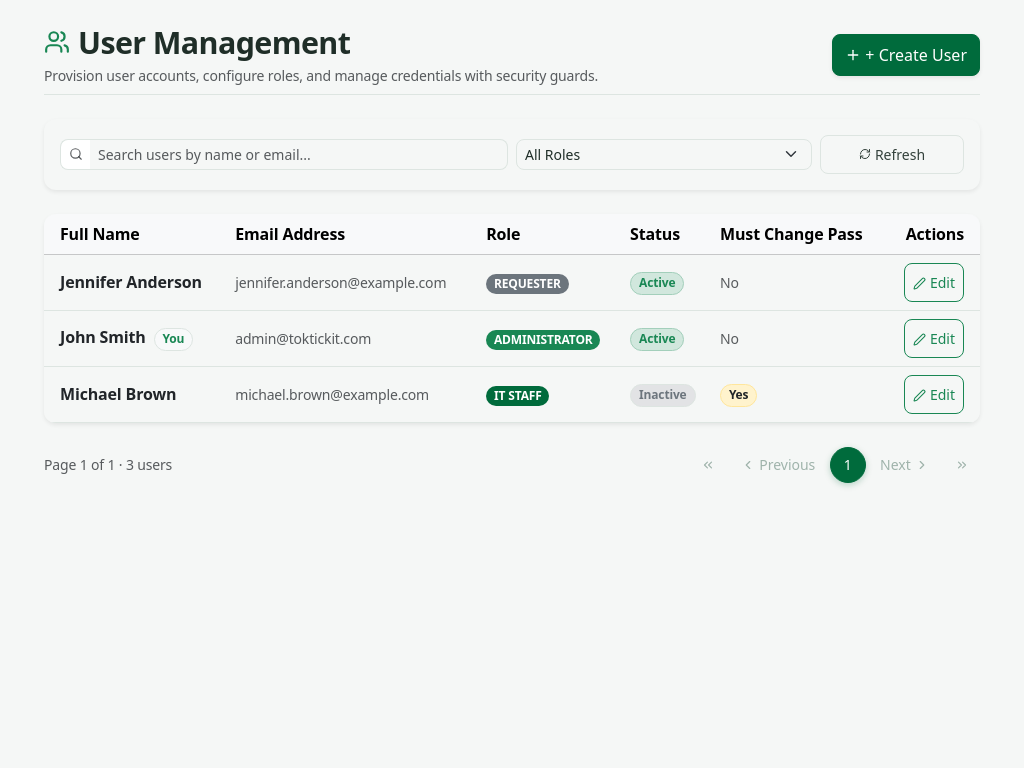
UserManagement Component (UI-05, AC-15, AC-18) › disables self-deactivation when an admin edits their own account (BR-16, AC-18)
Click Edit on John Smith (id: 2, current logged in admin)
What coordinates should you click on to do the following:
click the button with aria-label "Edit John Smith"
I would click on:
 (934, 338)
Its box is [904,318,964,358].
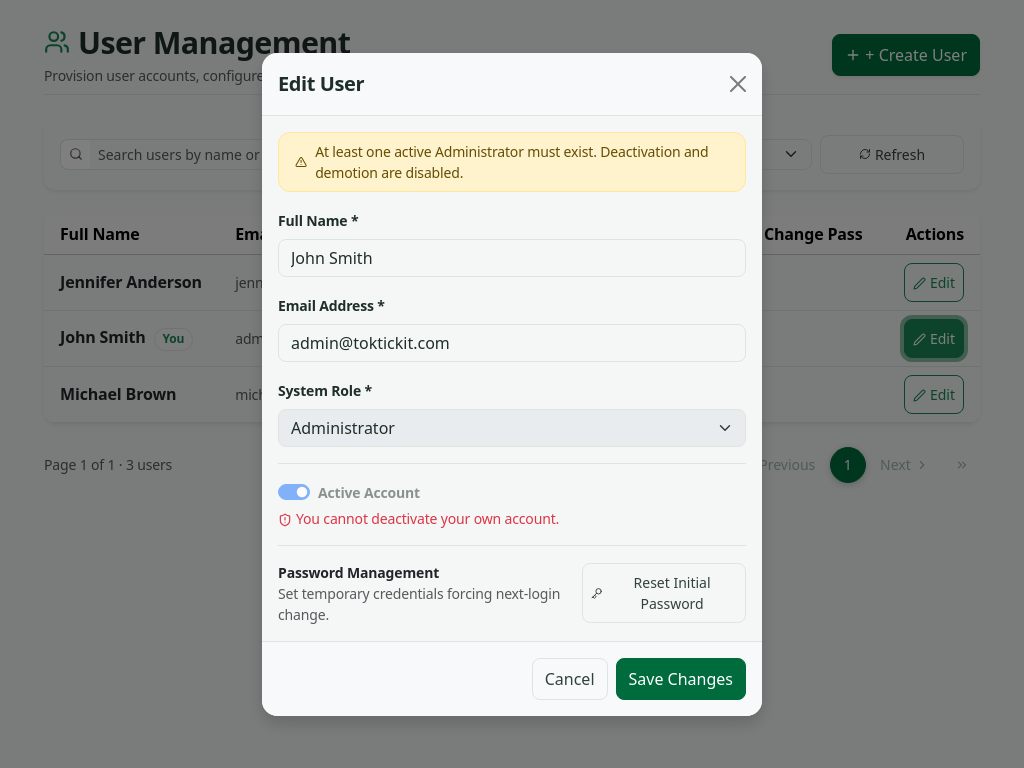
Expected: the heading "Edit User" is shown, [278,68,364,98]
Expected: the checkbox labelled "Active Account" is disabled, [278,484,310,500]
Expected: the text "You cannot deactivate your own account." is shown, [278,508,559,528]
